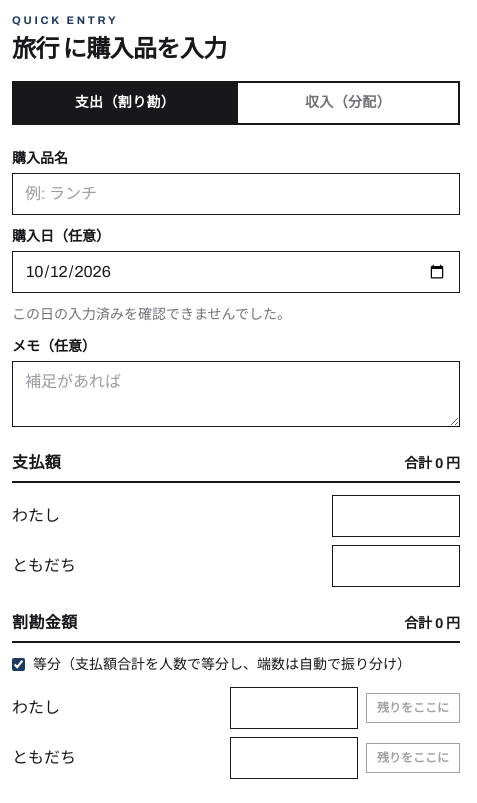
Scenario: 収入（分配）に切り替えると見出しが追従する
The image size is (477, 803).
Expected: the field labelled "購入品名" is shown, x1=12 y1=172 x2=460 y2=214
Click the button "収入（分配）": x=347, y=102 x1=236 y1=82 x2=458 y2=122
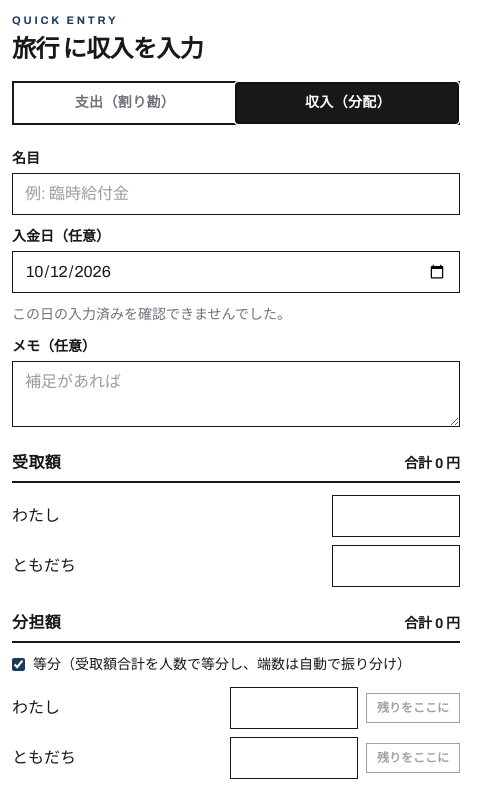
Expected: the heading "旅行 に収入を入力" is shown, x1=12 y1=36 x2=203 y2=62
